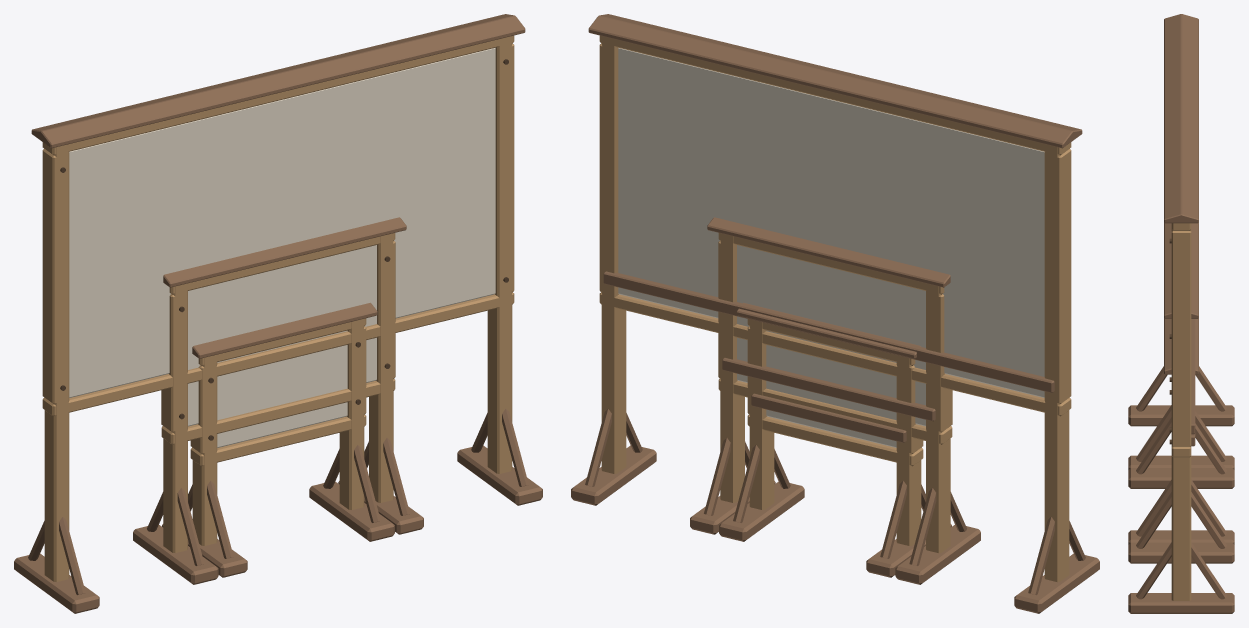
Rendered from signs.glb.
3 renders of one model, left to right at view 1: azimuth 30°, elevation 25°; view 2: azimuth 150°, elevation 25°; view 3: azimuth 270°, elevation 25°, orthographic. The views are drawn at different scales.
Parts seen in each view (by area): view 1: body_P05, body_F04, body_P19; view 2: body_P05, body_P19, body_F04; view 3: body_P05, body_P19, body_F04.
Boxes of the visible parts, <box> form: body_P05: <box>14,14,542,613</box>; body_F04: <box>162,302,394,577</box>; body_P19: <box>133,217,423,584</box>; body_P05: <box>571,14,1099,613</box>; body_P19: <box>690,217,980,584</box>; body_F04: <box>719,302,951,577</box>; body_P05: <box>1128,14,1234,613</box>; body_P19: <box>1128,222,1234,563</box>; body_F04: <box>1128,318,1234,544</box>.
Size of the model in its own units: 2.6 by 2.42 by 0.58.
